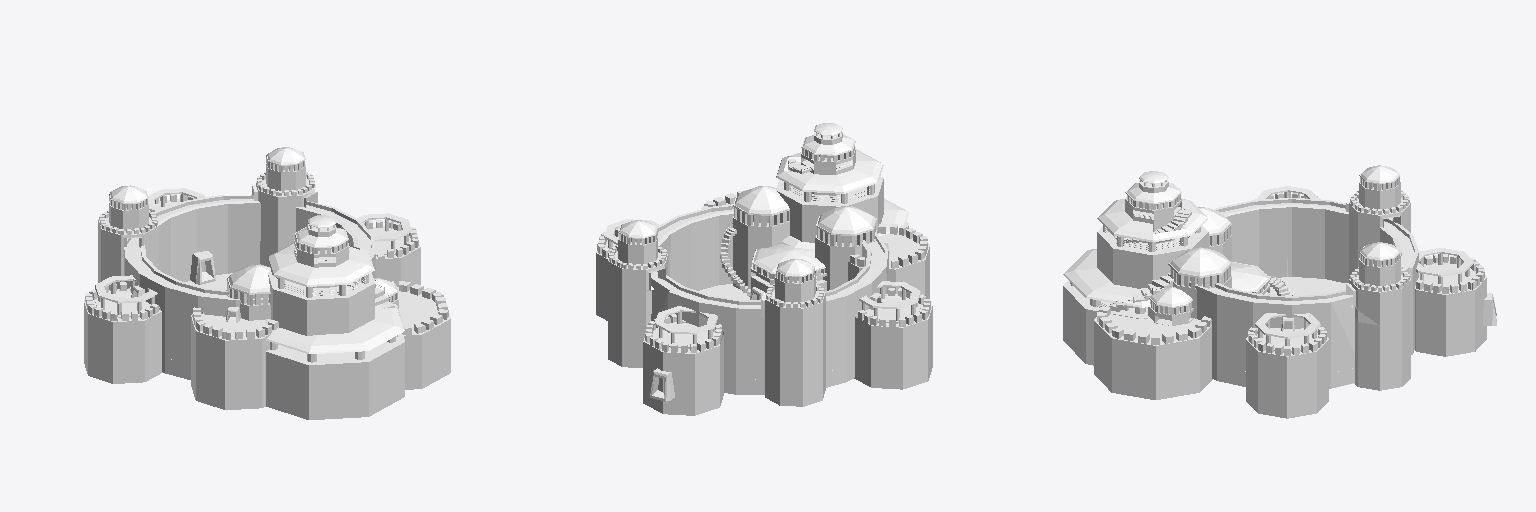
File: castle.obj
The picture shows the model from 3 angles: view 1: azimuth 30°, elevation 25°; view 2: azimuth 150°, elevation 25°; view 3: azimuth 270°, elevation 25°; orthographic projection.
Bounding box in the file's own units: 17.68 × 8.5 × 20.25.